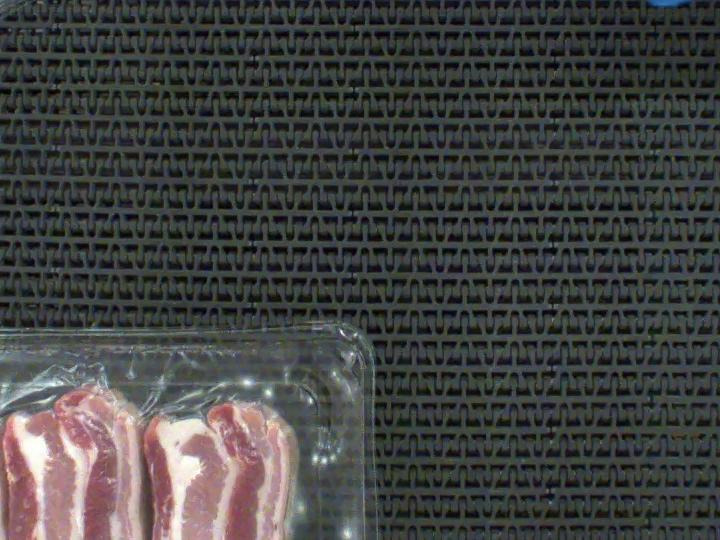unsealed: (0, 351, 320, 540)
